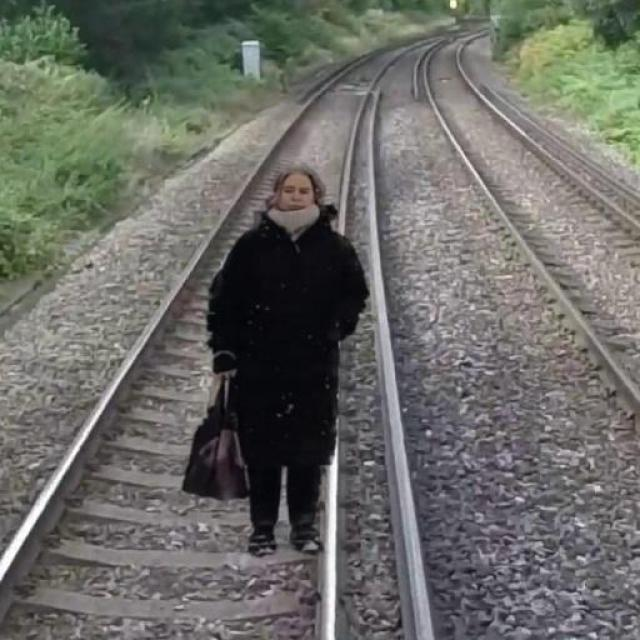people: (183, 156, 373, 566)
